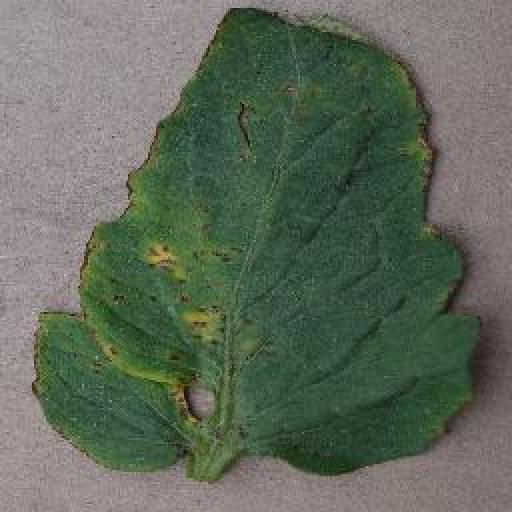Bacterial Spot: (26, 1, 490, 494)
